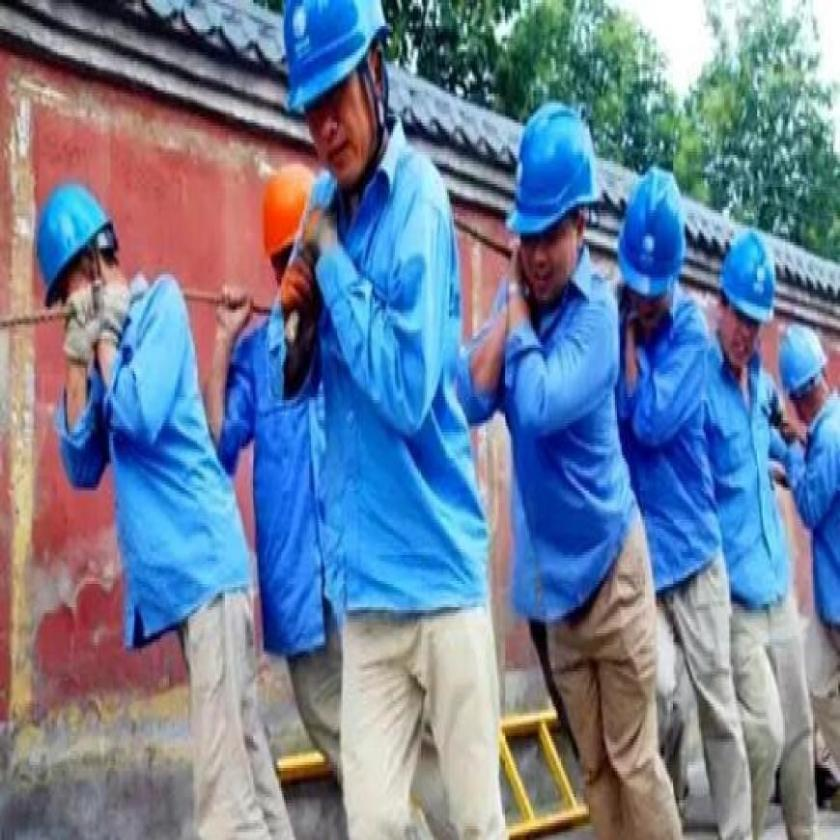Con_casco: (282, 0, 397, 199), (507, 105, 603, 302), (36, 177, 129, 351), (618, 160, 692, 338), (716, 222, 778, 390)
